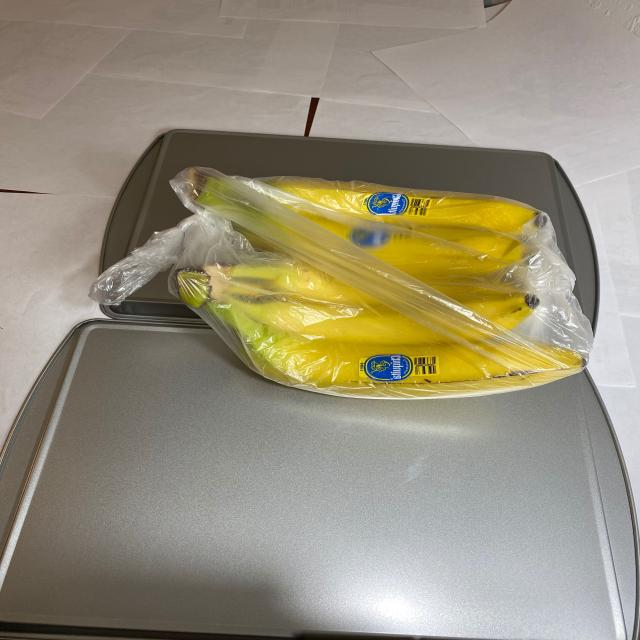banana: (153, 158, 602, 409)
